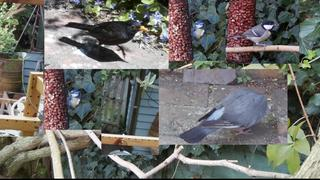blackbird: (64, 20, 149, 61)
blue tit: (188, 20, 206, 45), (64, 89, 81, 114)
great tit: (229, 20, 279, 51)
wood pigeon: (179, 89, 268, 144)
